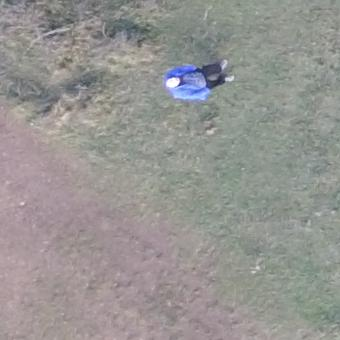human: (164, 58, 238, 102)
